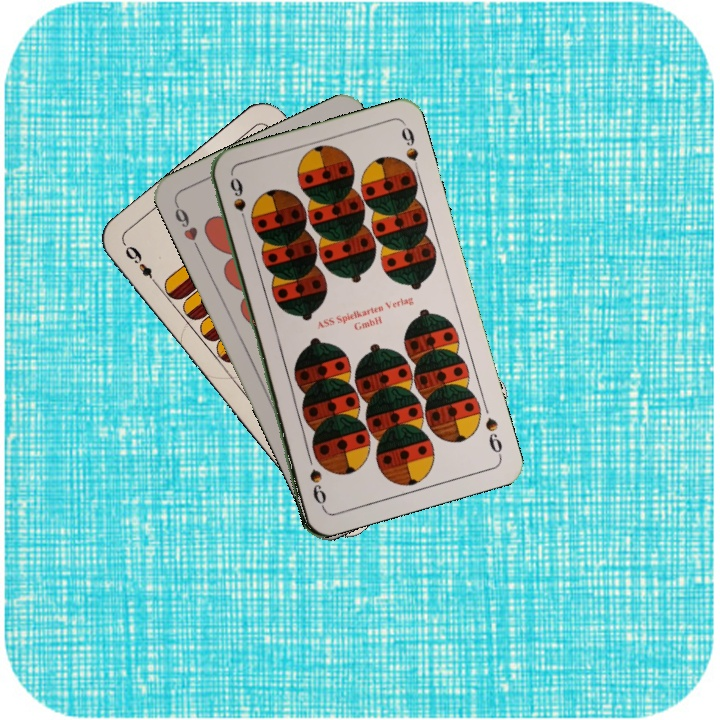E9: (119, 240, 162, 290)
H9: (170, 198, 203, 254)
S9: (226, 174, 251, 231), (481, 413, 505, 460)
